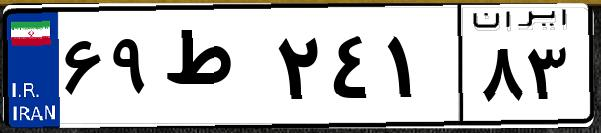1: (385, 28, 445, 110)
2: (270, 28, 330, 110)
3: (525, 38, 570, 115)
4: (330, 28, 385, 110)
6: (57, 26, 110, 100)
8: (475, 38, 525, 113)
9: (110, 28, 158, 98)
ط: (158, 20, 270, 120)
